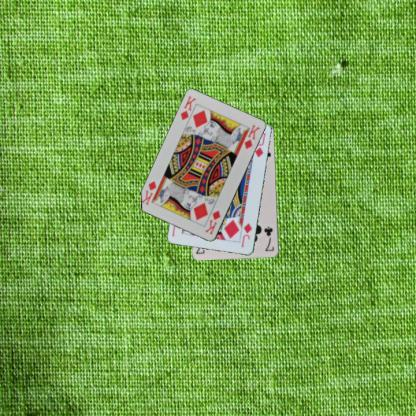7c: (262, 224, 275, 253)
Jd: (238, 221, 254, 248)
Kd: (202, 208, 222, 236), (178, 94, 198, 122)
